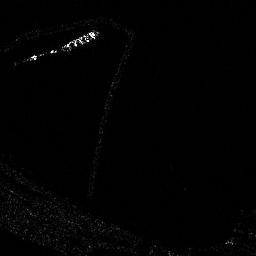ship: (60, 28, 99, 51)
